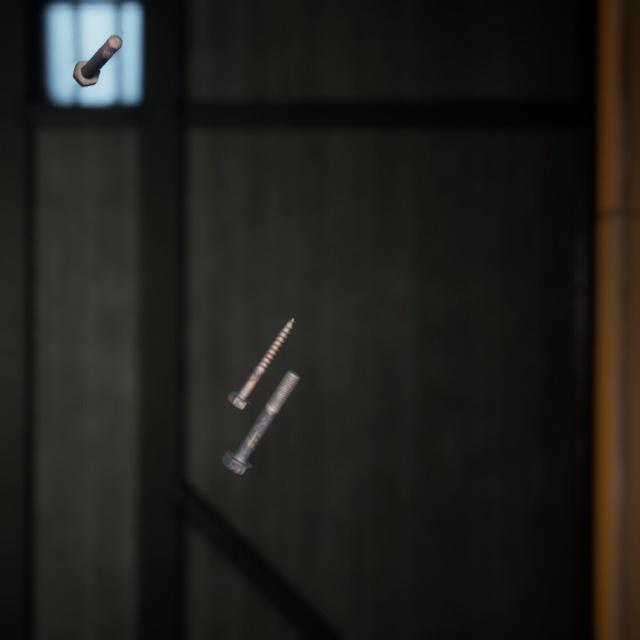bolt: (216, 344, 305, 460), (222, 293, 299, 396), (68, 20, 126, 82)
